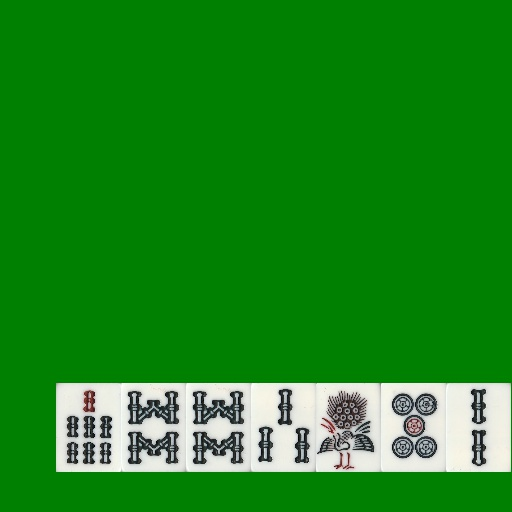1s: (316, 383, 381, 472)
2s: (446, 383, 511, 472)
3s: (251, 383, 316, 472)
5p: (381, 383, 446, 472)
7s: (56, 383, 121, 472)
8s: (121, 383, 186, 472), (186, 383, 251, 472)
